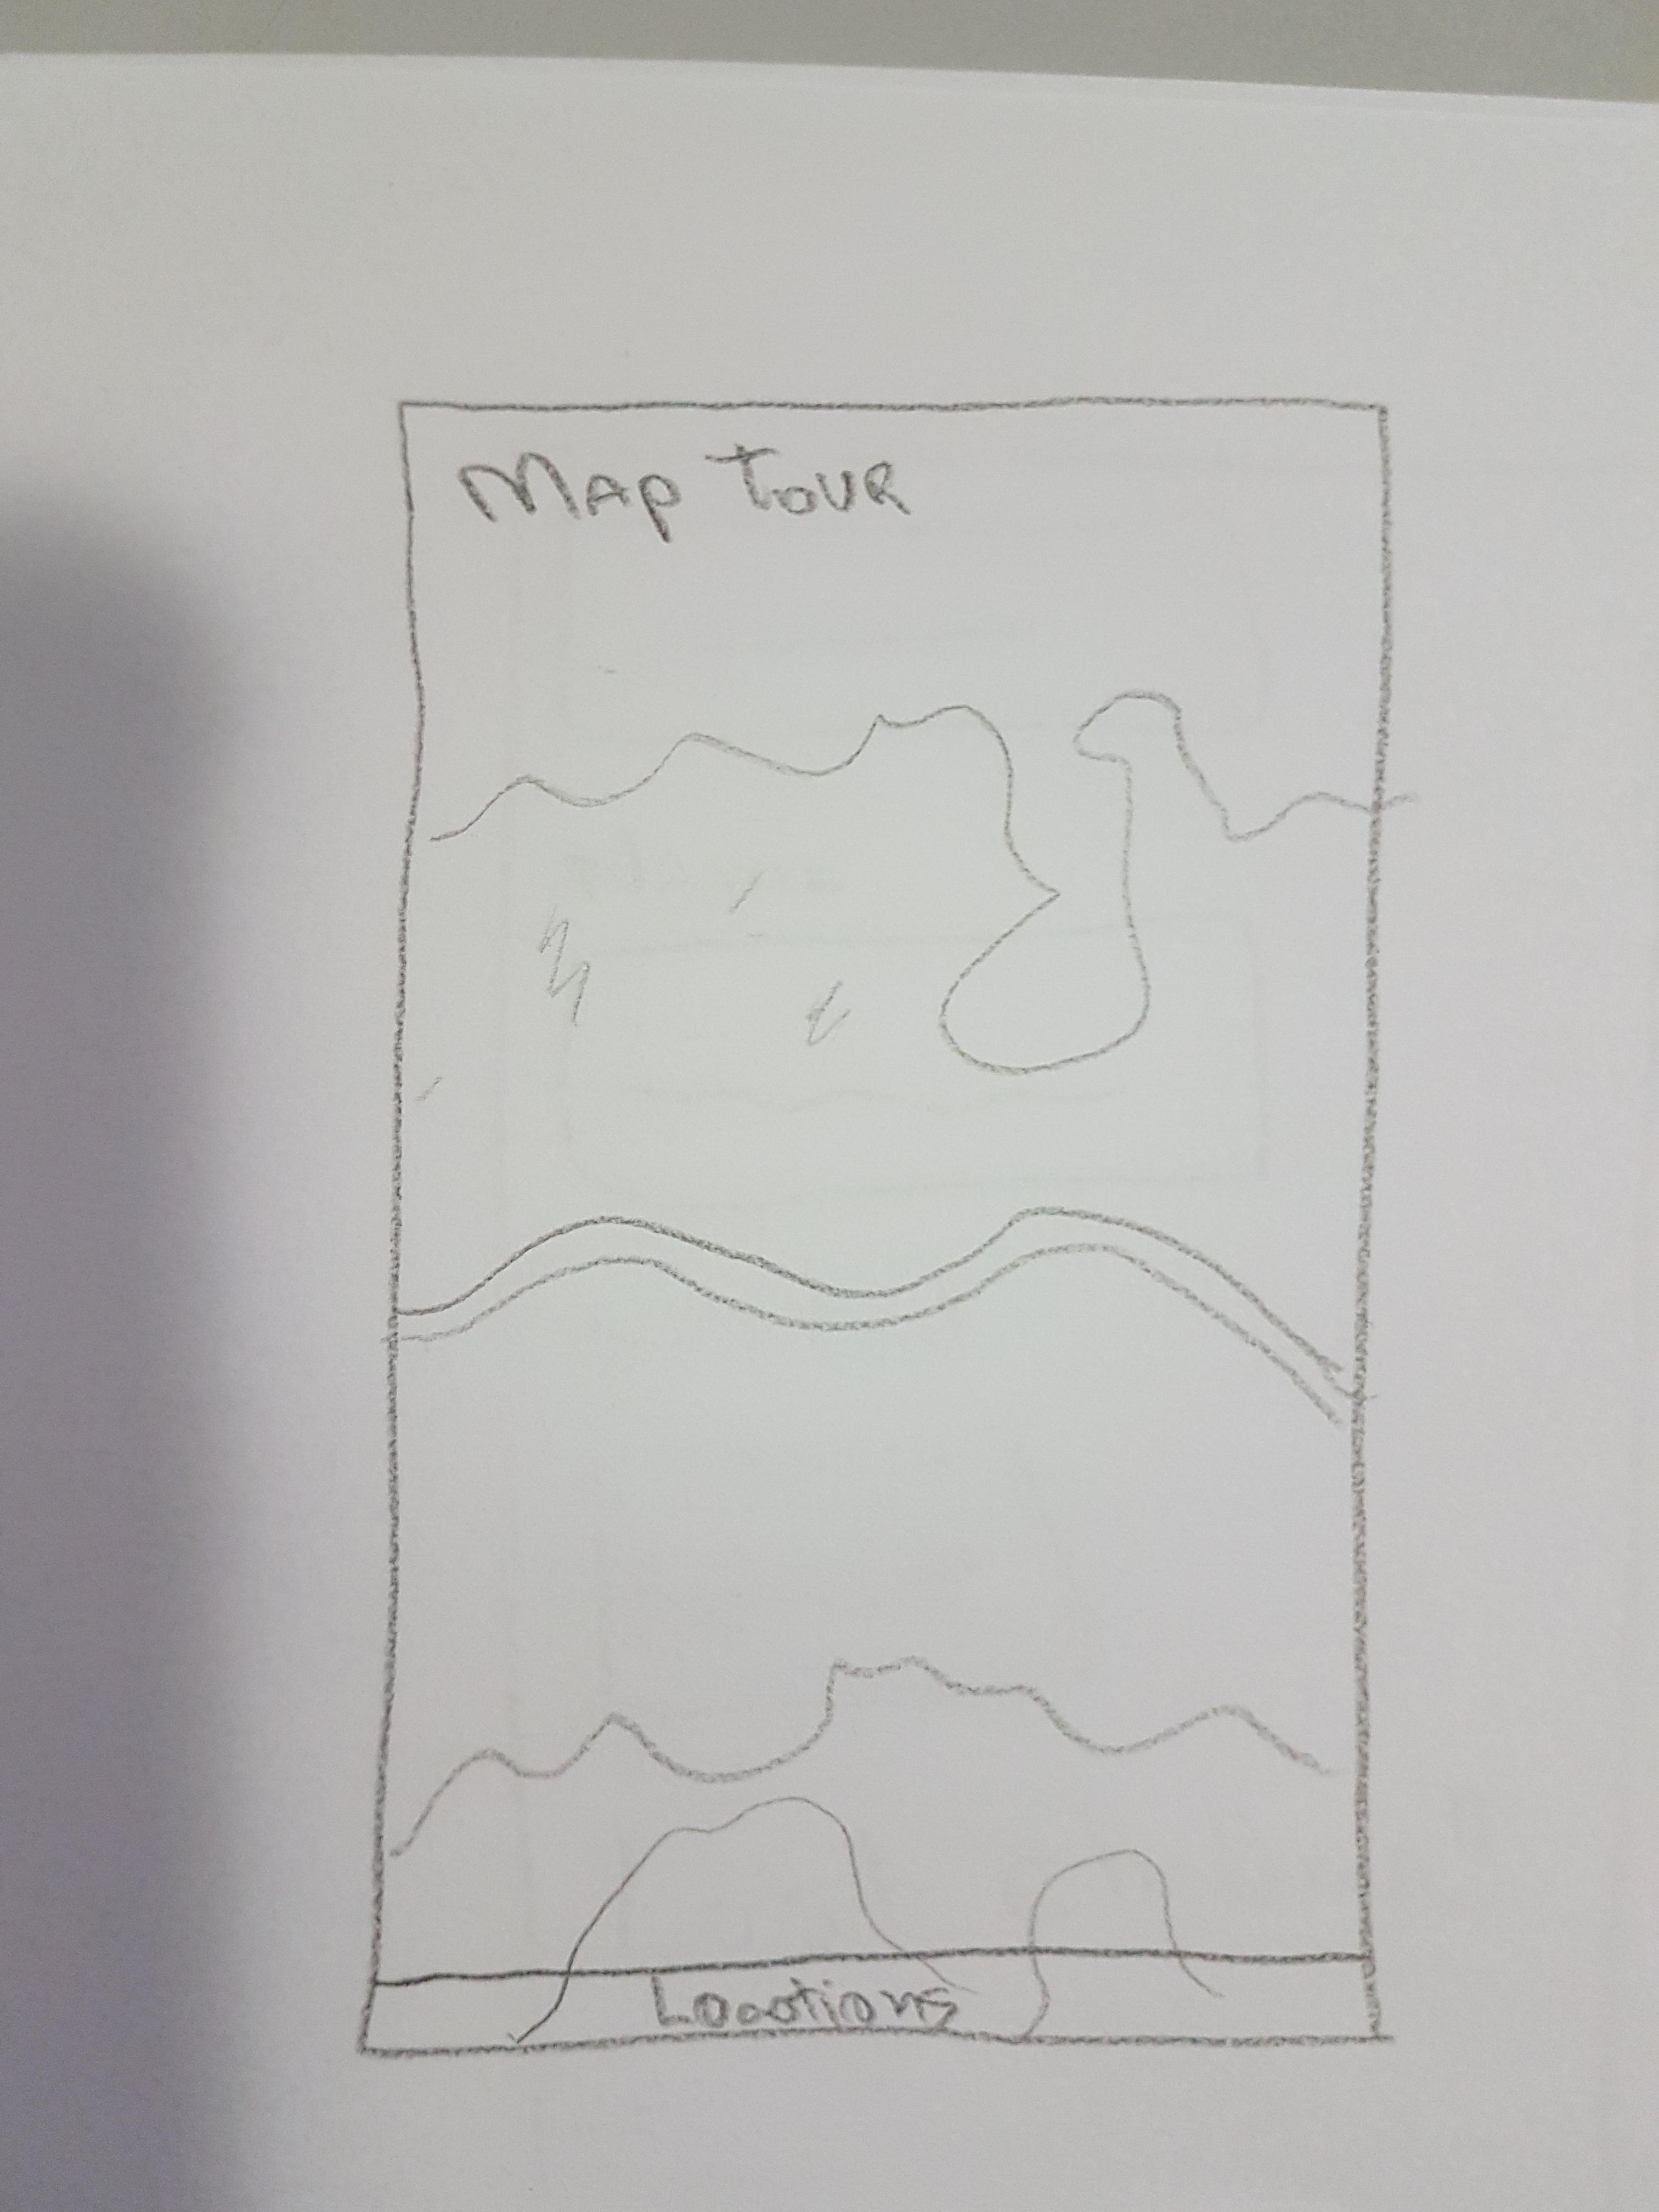Label: (645, 1968, 960, 2031)
Map: (396, 401, 1375, 1979)
Screen: (390, 394, 1385, 2057)
